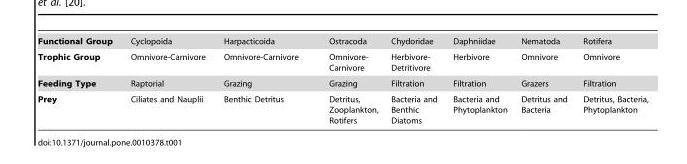table: (37, 36, 647, 124)
table column: (213, 36, 313, 124), (120, 36, 213, 124), (37, 36, 120, 124), (574, 36, 647, 124), (313, 36, 384, 124), (444, 36, 513, 124), (513, 36, 574, 124), (384, 36, 444, 124)
table row: (37, 91, 647, 124), (37, 48, 647, 75), (37, 75, 647, 91), (37, 36, 647, 48)
